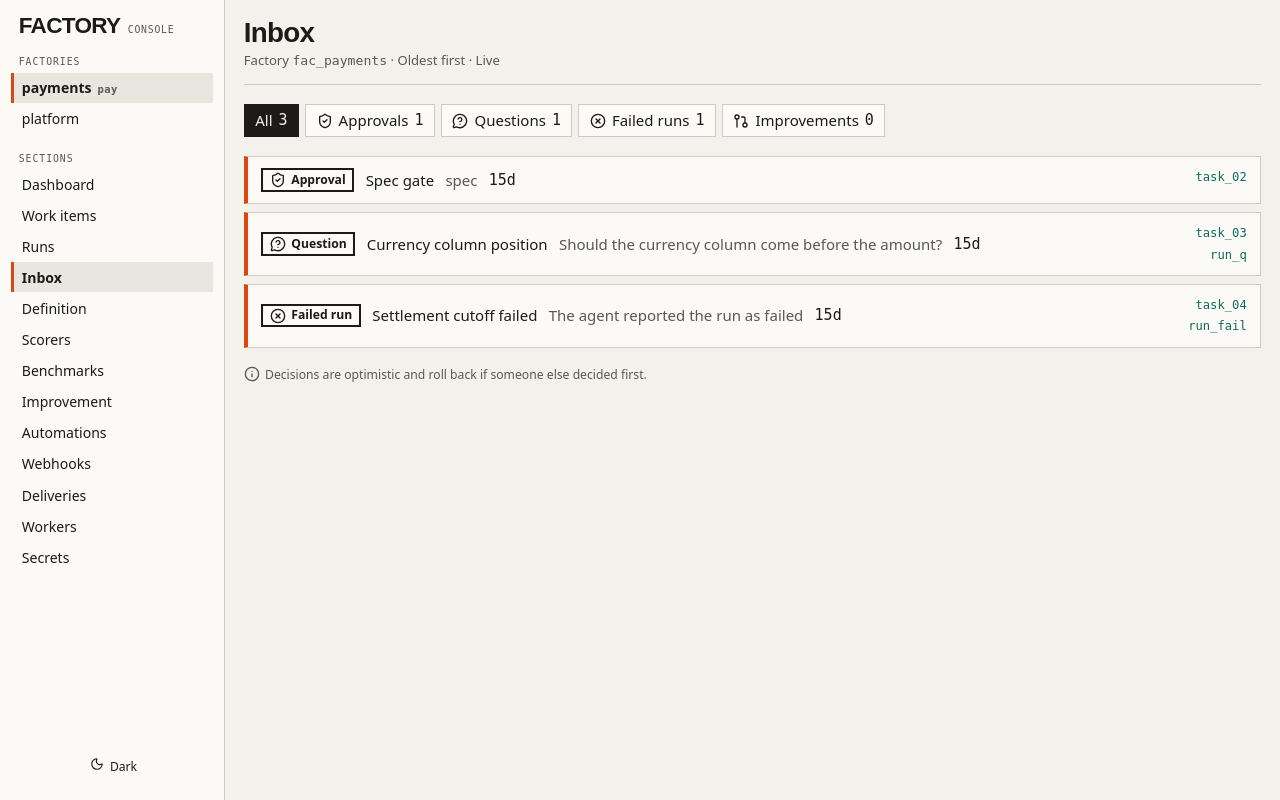
inbox › lists rows oldest first and filters by kind
Expected: the button "Approvals 1" is shown, x1=305 y1=104 x2=435 y2=137
Expected: the button "Failed runs 1" is shown, x1=578 y1=104 x2=716 y2=137
Click the button "Questions 1" at x=507, y=121, box x1=441 y1=104 x2=572 y2=137
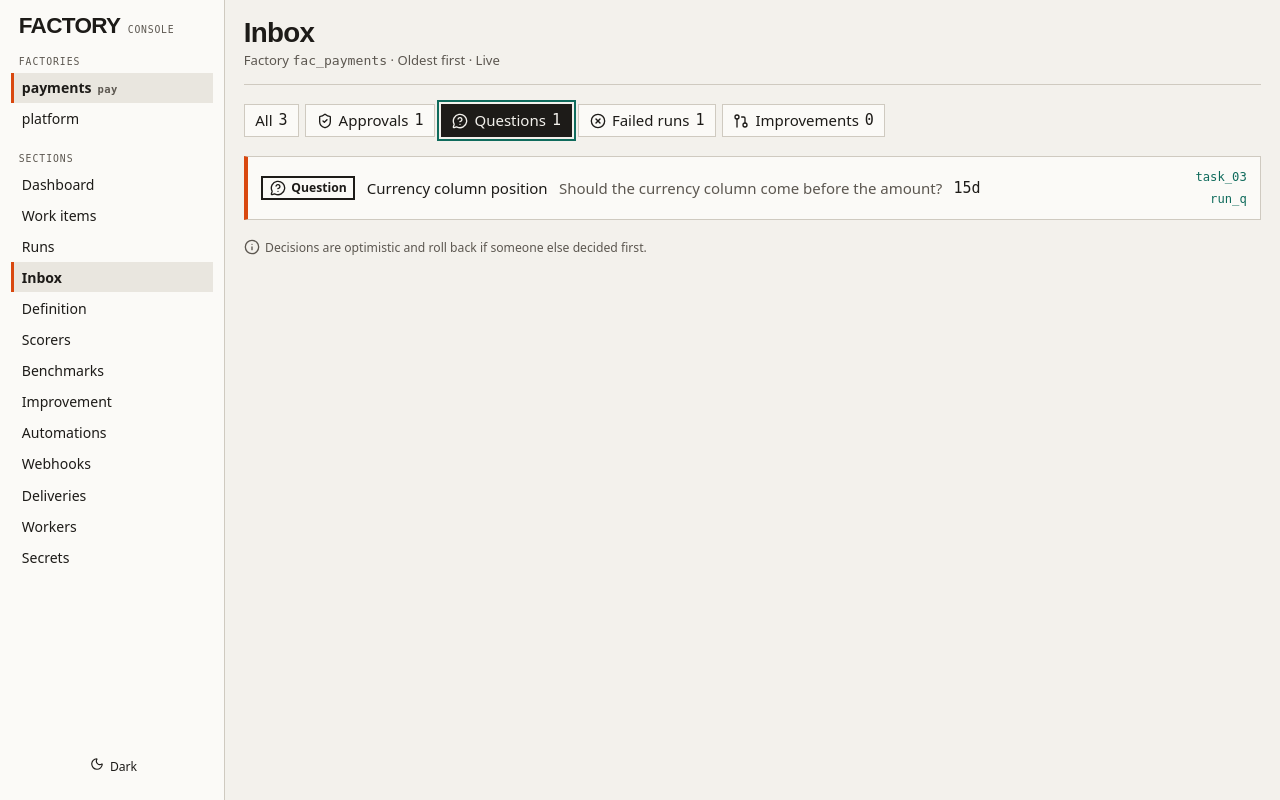
Expected: the text "Currency column position" is shown, x1=367 y1=177 x2=548 y2=200
Result: the button "Spec gate" is gone
